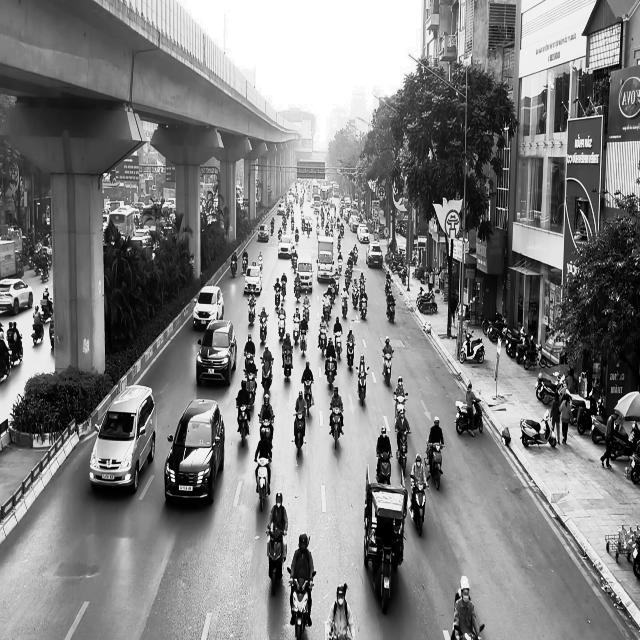car: (89, 384, 157, 494), (164, 398, 226, 505), (196, 319, 237, 386), (193, 285, 224, 329), (0, 277, 34, 315), (244, 265, 262, 294), (258, 223, 269, 242)
motorbike: (287, 566, 317, 639), (266, 527, 287, 596), (520, 411, 557, 447), (410, 474, 431, 536), (455, 393, 483, 437), (255, 455, 272, 512), (426, 439, 444, 490), (459, 329, 485, 364), (396, 429, 411, 484), (236, 398, 252, 446), (329, 404, 344, 450), (293, 411, 306, 456), (258, 413, 275, 447), (243, 368, 258, 406), (376, 451, 392, 485), (356, 365, 369, 405), (324, 356, 338, 388), (382, 350, 394, 386), (303, 379, 314, 417), (394, 392, 408, 421), (32, 320, 44, 345), (346, 341, 356, 371), (386, 297, 396, 323), (230, 256, 238, 276)
